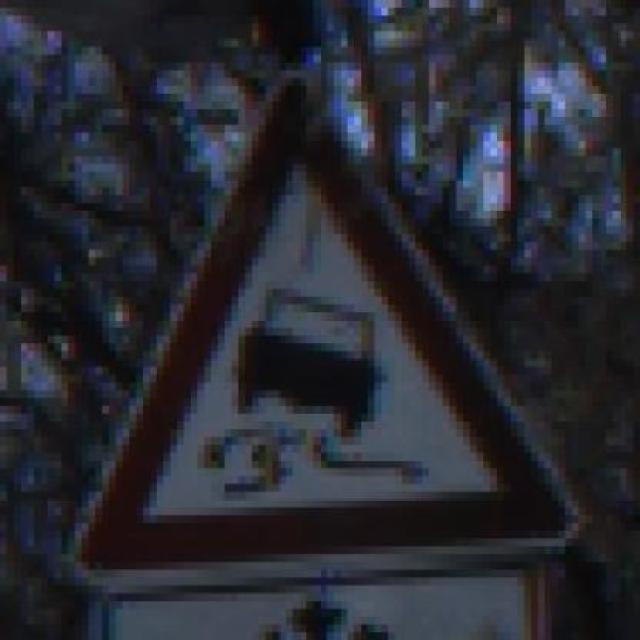Slippery Road Ahead: (40, 65, 592, 581)
